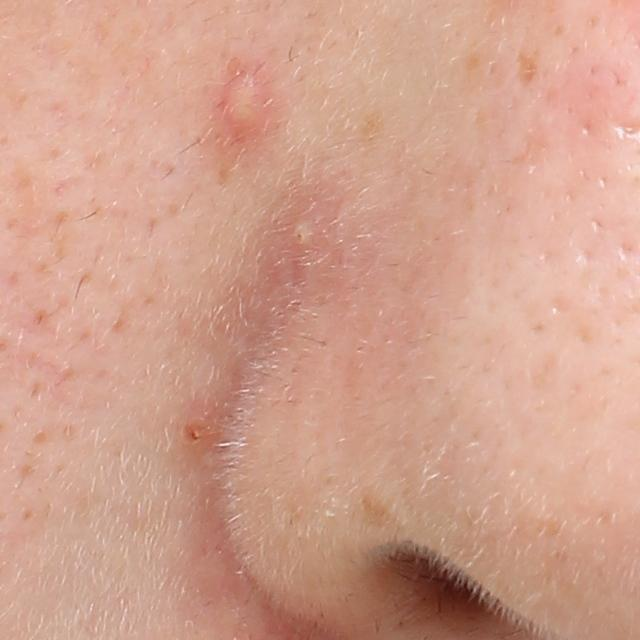melasma: (359, 493, 417, 540), (513, 43, 540, 87), (357, 108, 383, 143)
papule: (218, 74, 270, 146)
